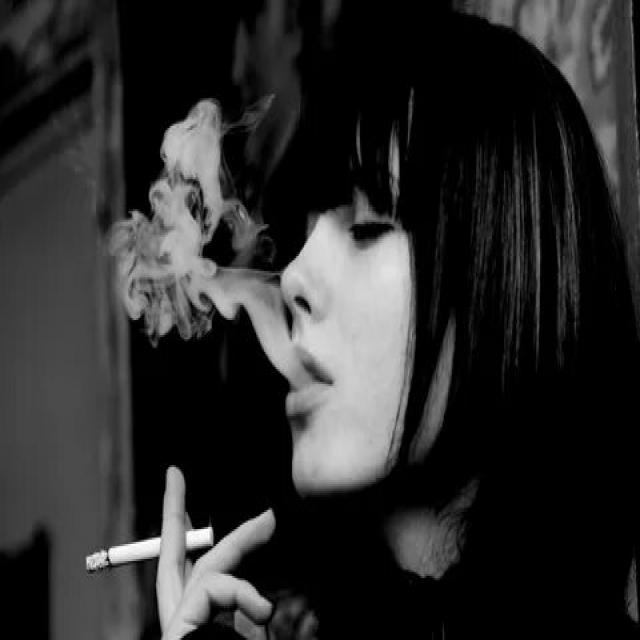cigarette: (84, 518, 220, 574)
